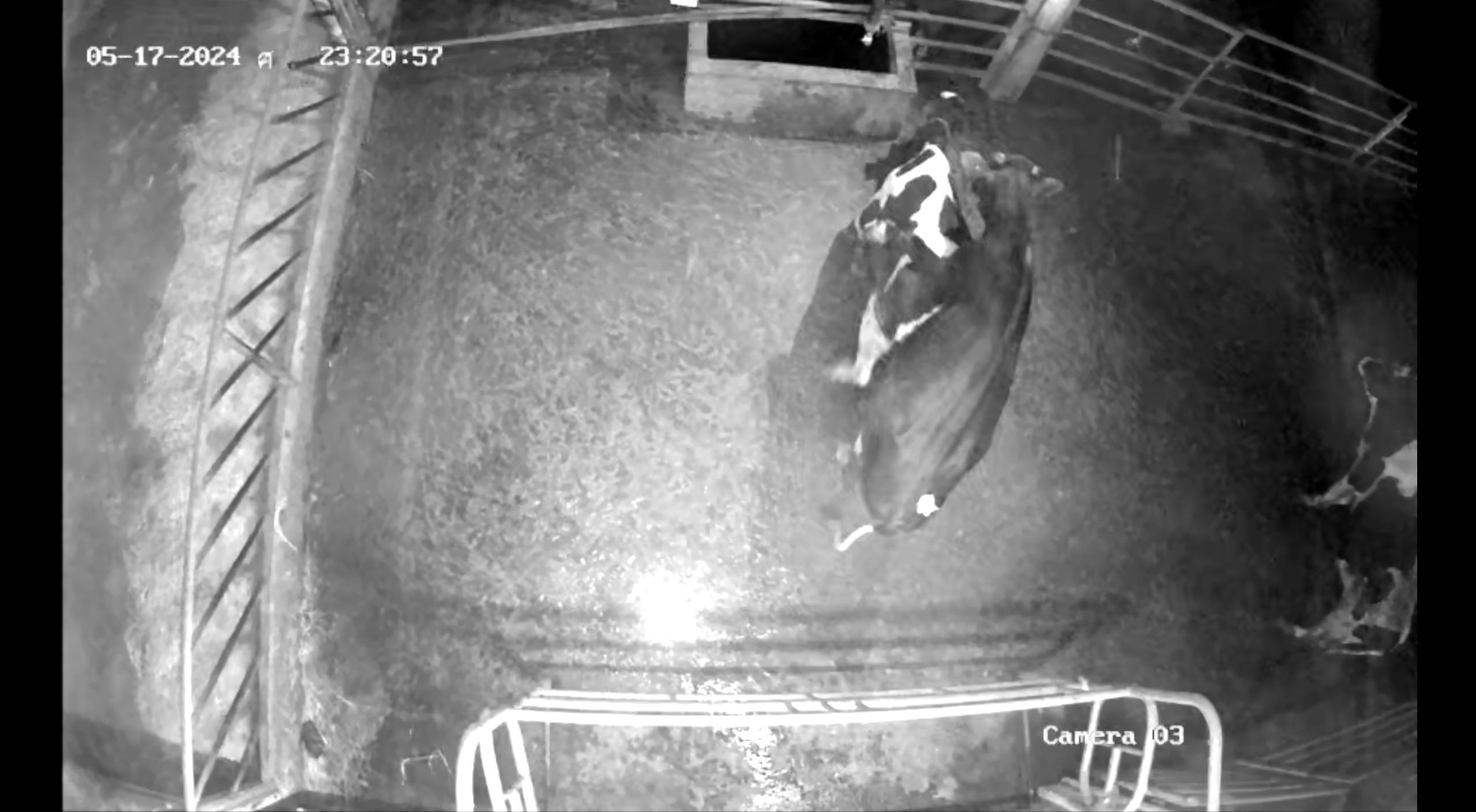ride: (811, 149, 1084, 571)
stand: (1230, 326, 1419, 666), (812, 98, 974, 339)
